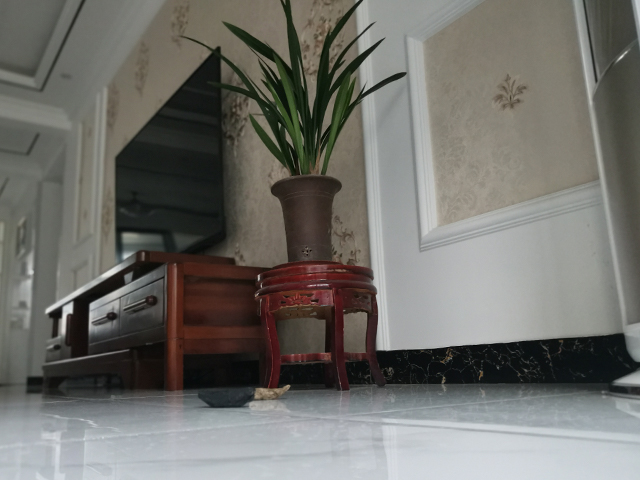cabinet: (38, 247, 271, 394)
feces: (195, 381, 291, 409)
stool: (246, 260, 387, 392)
